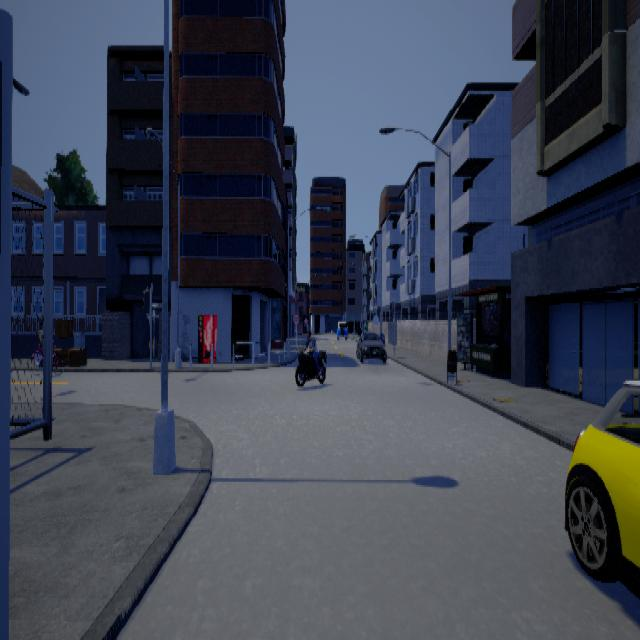motobike: (295, 330, 328, 386)
traffic_sign: (294, 312, 301, 324)
vehicle: (565, 379, 640, 598), (357, 330, 388, 362)
